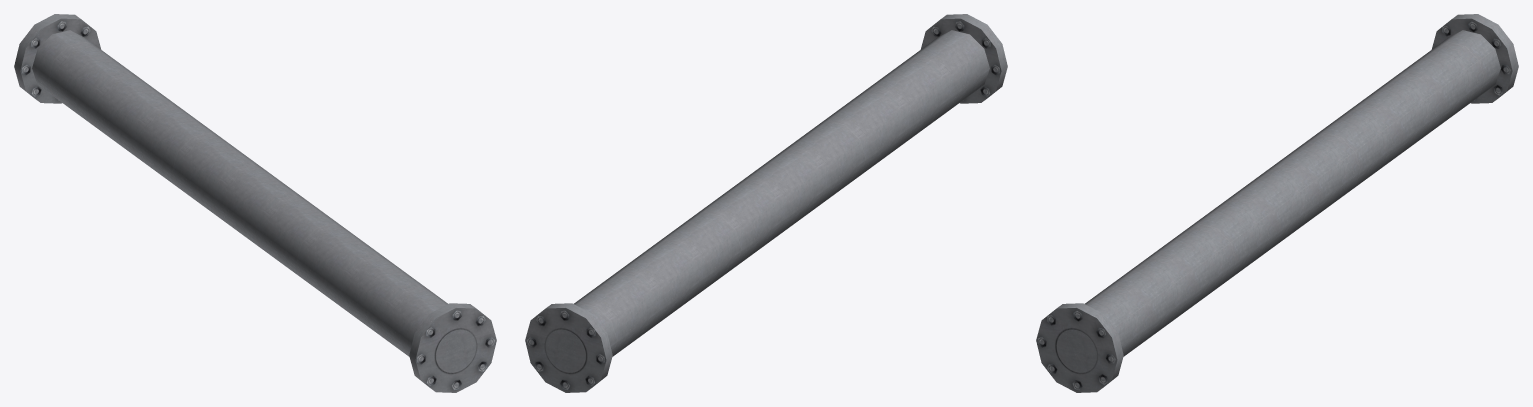
File: p_large_2_cap.FBX
3 renders of one model, left to right at view 1: azimuth 30°, elevation 25°; view 2: azimuth 150°, elevation 25°; view 3: azimuth 330°, elevation 25°, orthographic.
Visible parts, largest first — view 1: Cylinder010; view 2: Cylinder010; view 3: Cylinder010.
Boxes of the visible parts, x1,y1,x2,y2 form: Cylinder010: (14, 14, 496, 392); Cylinder010: (525, 14, 1007, 392); Cylinder010: (1036, 14, 1518, 392).
Bounding box in the file's own units: 29.97 × 29.97 × 256.
1 material, 1 textured.
